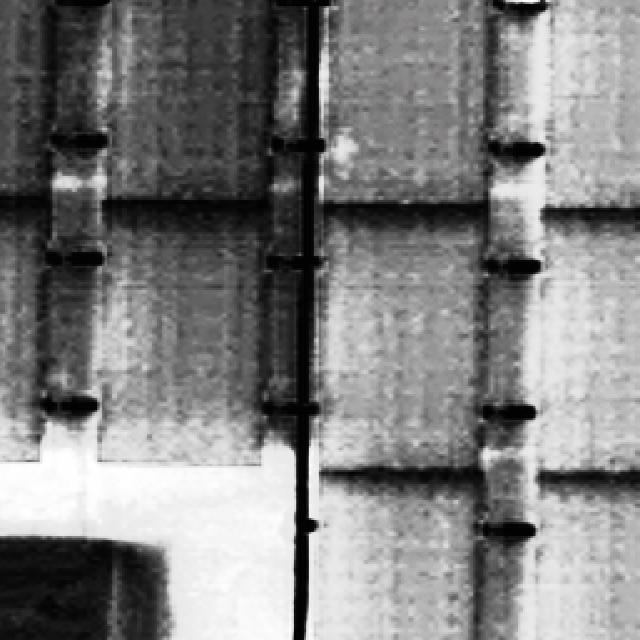Hotspots: (323, 134, 373, 182)
PV-modules: (311, 213, 488, 474), (98, 205, 256, 467), (318, 0, 495, 206), (104, 0, 274, 206), (535, 212, 640, 478), (311, 472, 476, 640), (538, 0, 640, 208), (535, 478, 640, 640), (0, 202, 40, 460), (0, 0, 50, 198)
